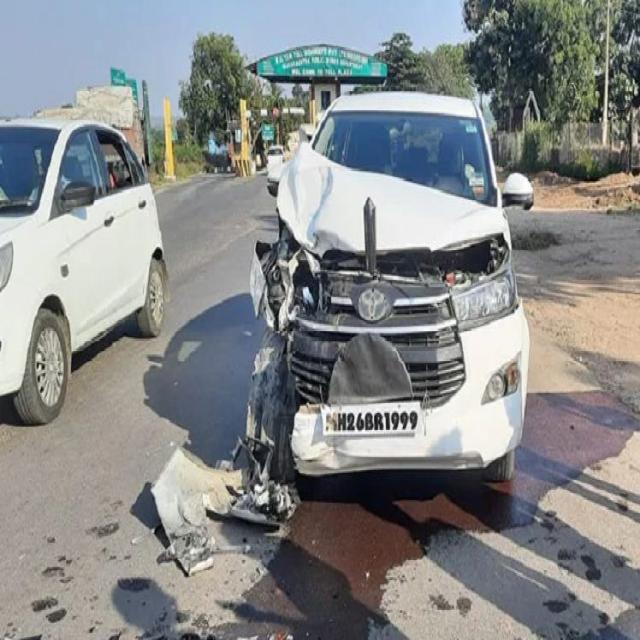accident: (154, 90, 537, 573)
car: (0, 119, 169, 424)
